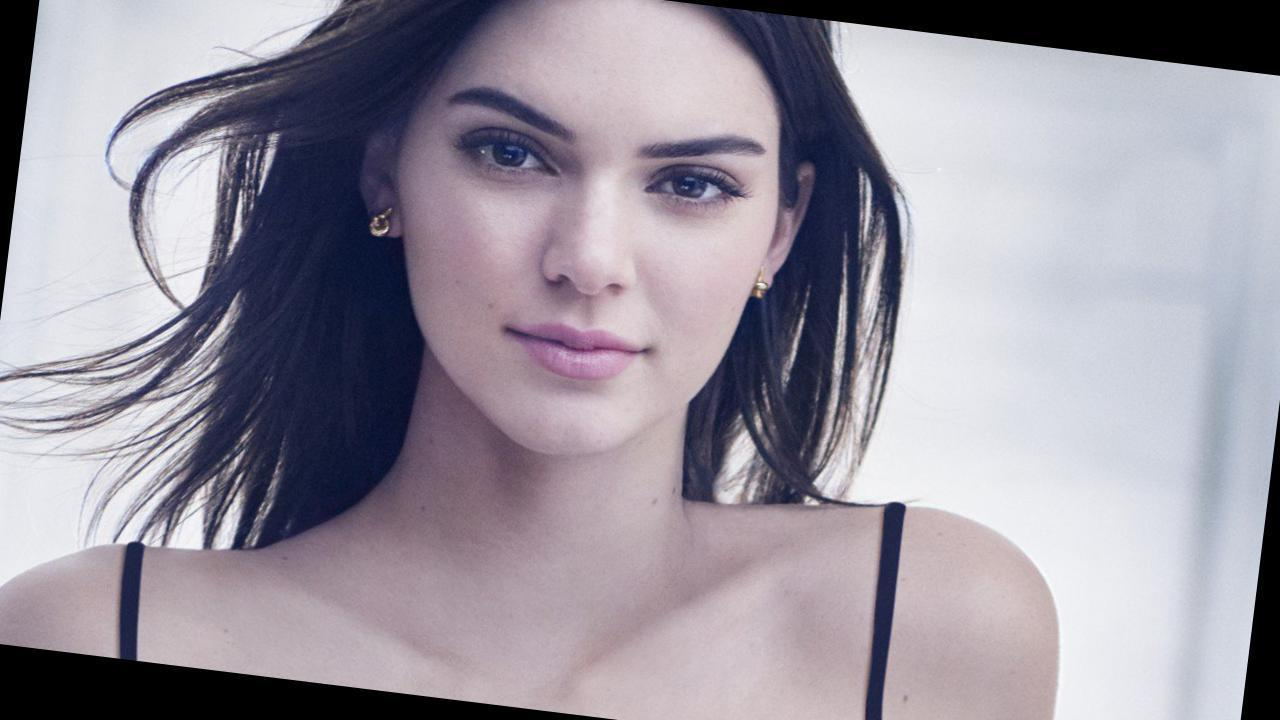Sober: (439, 12, 767, 435)
